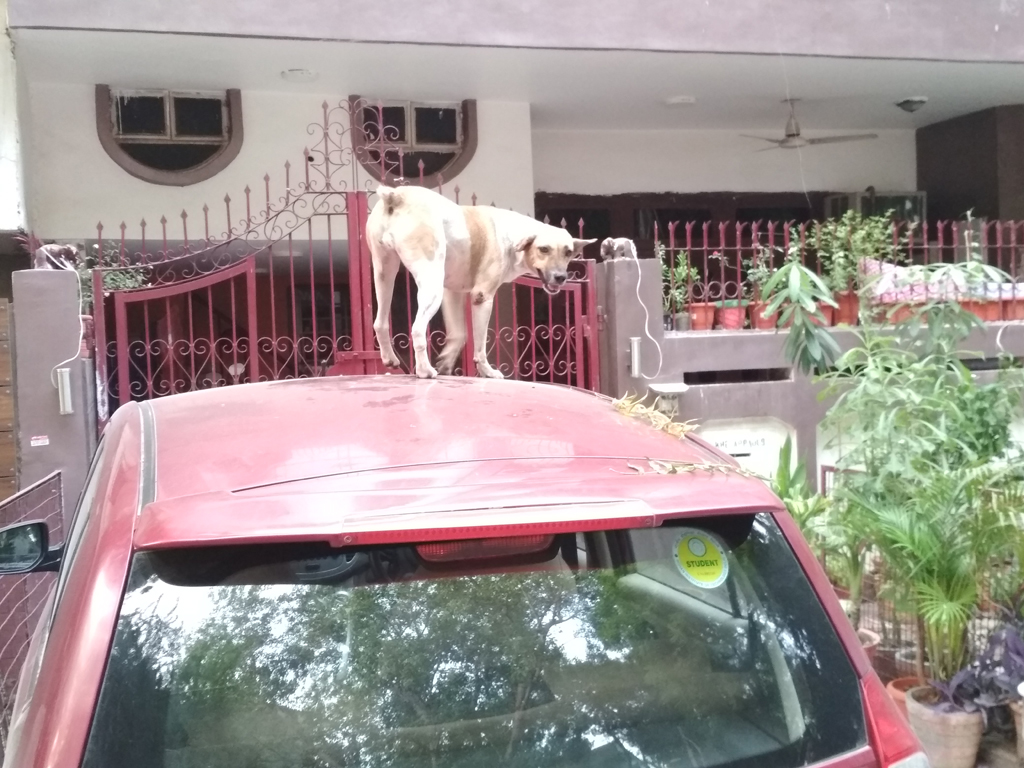dog: (364, 183, 599, 379)
